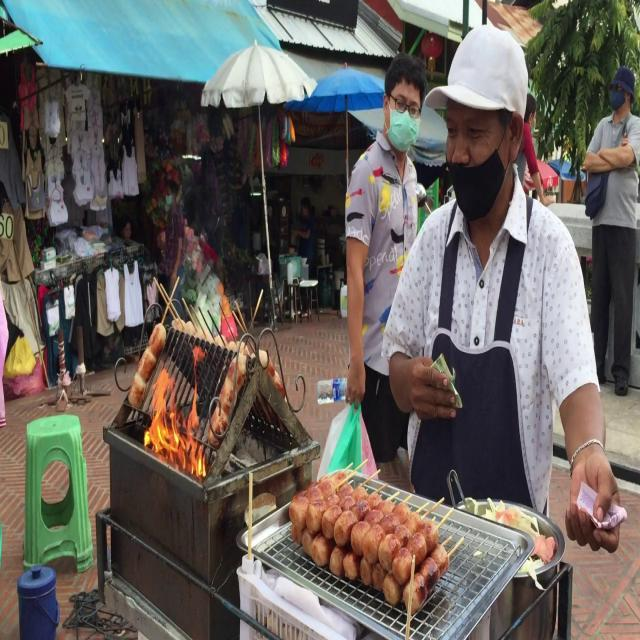Fire: (140, 360, 212, 484)
